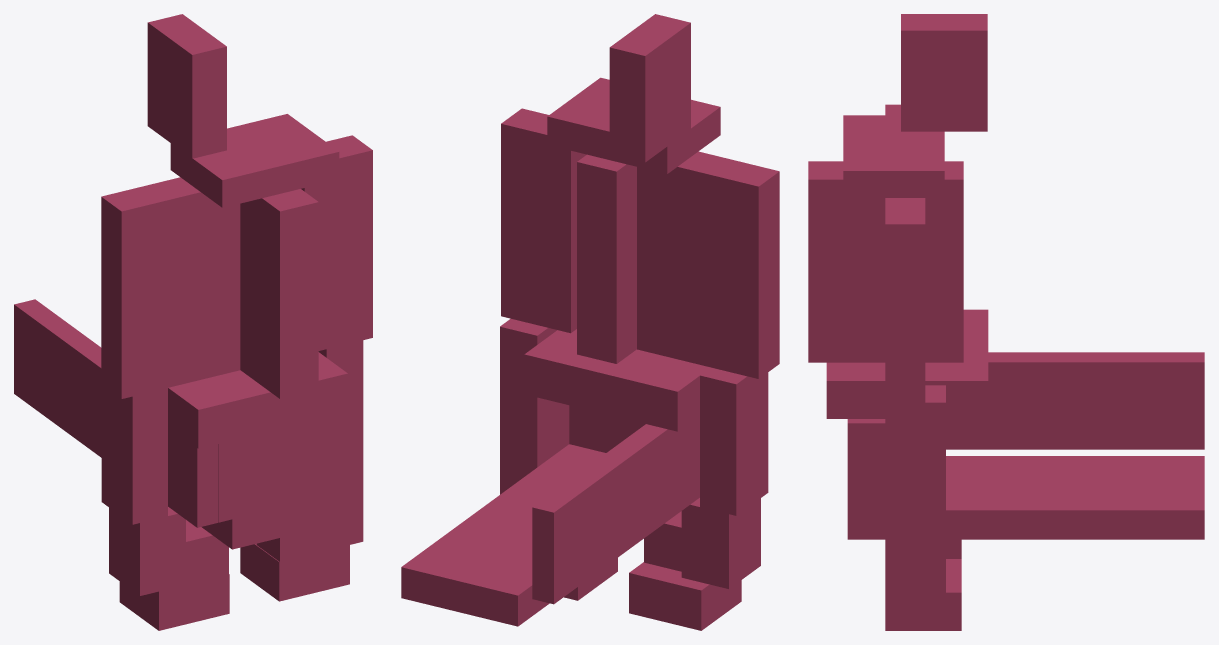
File: SM_Gormley_Statue.fbx
3 views of the same model, side by side, from view 1: azimuth 30°, elevation 25°; view 2: azimuth 150°, elevation 25°; view 3: azimuth 270°, elevation 25° (orthographic). The views are drawn at different scales.
Parts seen in each view (by area): view 1: SM_Gormley_Statue; view 2: SM_Gormley_Statue; view 3: SM_Gormley_Statue.
Part boxes in pixels (left/top/right/bottom): SM_Gormley_Statue: left=14, top=14, right=372, bottom=630; SM_Gormley_Statue: left=401, top=14, right=779, bottom=630; SM_Gormley_Statue: left=808, top=14, right=1204, bottom=630.
Size of the model in its own units: 7.75 by 16.51 by 10.87.
